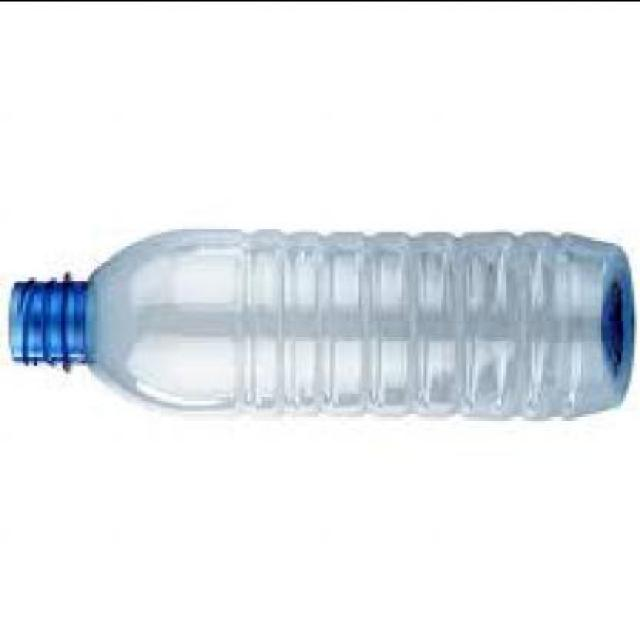PLASTIC: (6, 224, 632, 418)
